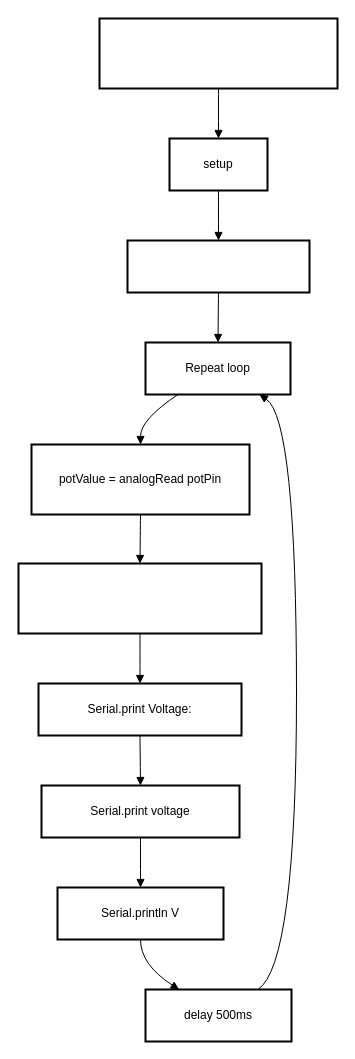
Image size: 355x1059. Some labels were removed from this diagram. The box of each missing label's shape, as (x1, y1, x2, y2) in pixels:
Declare Variables: potPin potValue voltage: (98, 17, 338, 89)
Serial.begin 9600: (126, 239, 310, 293)
voltage = potValue * 5.0 / 1023.0: (17, 562, 262, 634)
